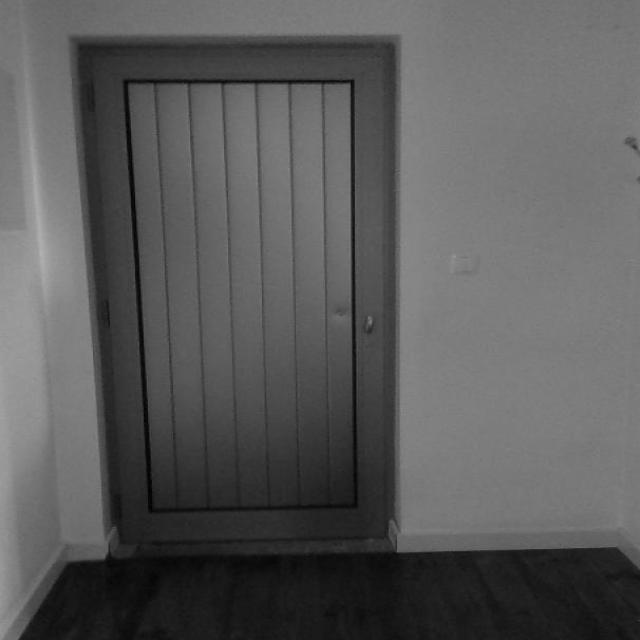Door: (78, 40, 396, 548)
